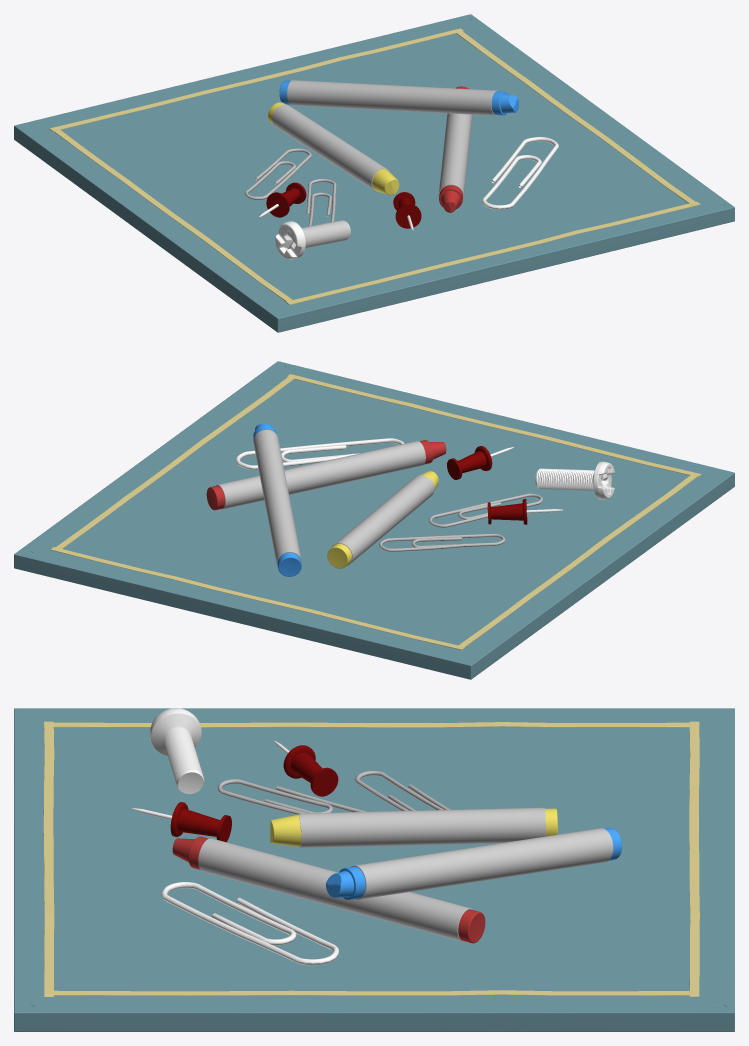
3 views of the same model, one above another, from view 1: azimuth 30°, elevation 25°; view 2: azimuth 150°, elevation 25°; view 3: azimuth 270°, elevation 25° (orthographic). The views are drawn at different scales.
Parts seen in each view (by area): view 1: Mesh5_Plastic_Blue_0, Wax_Pastel_05, Wax_Pastel_04, Wax_Pastel_03, Bolt_02, Decal_Floor_Caution_Line, pCube91, pCube92, pCube93, Paperclip_04, Pin7, Paperclip_05 (+2 smaller); view 2: Mesh5_Plastic_Blue_0, Wax_Pastel_03, Wax_Pastel_05, Wax_Pastel_04, Bolt_02, Decal_Floor_Caution_Line, pCube91, pCube92, pCube93, Paperclip_04, Paperclip_05, Pin6 (+2 smaller); view 3: Mesh5_Plastic_Blue_0, Wax_Pastel_05, Wax_Pastel_04, Wax_Pastel_03, Paperclip_04, pCube93, pCube92, Bolt_02, Decal_Floor_Caution_Line, pCube91, Pin7, Pin6 (+2 smaller).
Boxes of the visible parts, x1=… form: Mesh5_Plastic_Blue_0: x1=14, y1=14, x2=734, y2=332; Wax_Pastel_05: x1=279, y1=80, x2=518, y2=115; Wax_Pastel_04: x1=268, y1=102, x2=399, y2=194; Wax_Pastel_03: x1=438, y1=86, x2=472, y2=212; Bolt_02: x1=275, y1=220, x2=350, y2=259; Decal_Floor_Caution_Line: x1=49, y1=28, x2=464, y2=131; pCube91: x1=286, y1=201, x2=700, y2=304; pCube92: x1=54, y1=129, x2=295, y2=303; pCube93: x1=456, y1=31, x2=698, y2=205; Paperclip_04: x1=482, y1=137, x2=558, y2=209; Pin7: x1=259, y1=182, x2=306, y2=217; Paperclip_05: x1=244, y1=148, x2=311, y2=199; Mesh5_Plastic_Blue_0: x1=14, y1=361, x2=734, y2=679; Wax_Pastel_03: x1=206, y1=440, x2=446, y2=510; Wax_Pastel_05: x1=253, y1=423, x2=301, y2=576; Wax_Pastel_04: x1=327, y1=471, x2=438, y2=568; Bolt_02: x1=535, y1=461, x2=614, y2=499; Decal_Floor_Caution_Line: x1=50, y1=547, x2=464, y2=650; pCube91: x1=287, y1=374, x2=701, y2=477; pCube92: x1=458, y1=473, x2=699, y2=646; pCube93: x1=56, y1=374, x2=296, y2=548; Paperclip_04: x1=235, y1=438, x2=404, y2=469; Paperclip_05: x1=379, y1=533, x2=505, y2=551; Pin6: x1=447, y1=446, x2=513, y2=479; Mesh5_Plastic_Blue_0: x1=14, y1=708, x2=734, y2=1031; Wax_Pastel_05: x1=326, y1=827, x2=621, y2=899; Wax_Pastel_04: x1=270, y1=807, x2=557, y2=847; Wax_Pastel_03: x1=172, y1=836, x2=485, y2=943; Paperclip_04: x1=161, y1=882, x2=338, y2=965; pCube93: x1=45, y1=990, x2=689, y2=995; pCube92: x1=45, y1=722, x2=689, y2=727; Bolt_02: x1=149, y1=708, x2=204, y2=794; Decal_Floor_Caution_Line: x1=689, y1=721, x2=699, y2=996; pCube91: x1=43, y1=721, x2=54, y2=996; Pin7: x1=273, y1=740, x2=338, y2=796; Pin6: x1=132, y1=802, x2=231, y2=842.
Size of the model in its own units: 0.228 by 0.0314 by 0.228.
